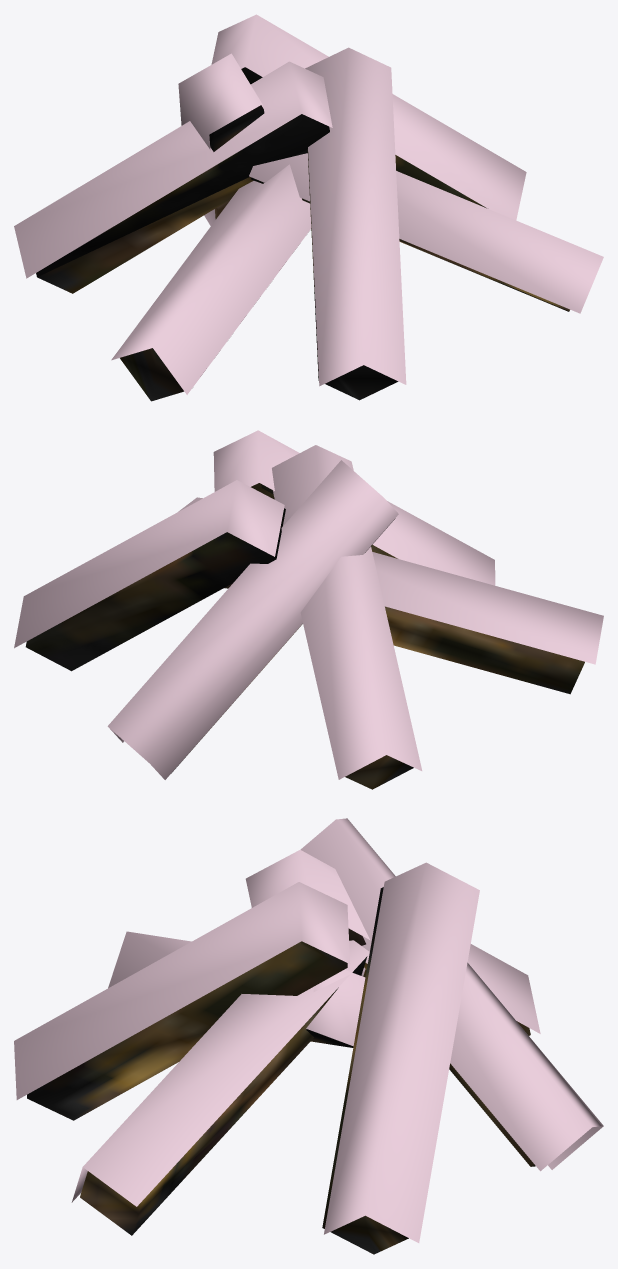
3 views of the same model, one above another, from view 1: azimuth 30°, elevation 25°; view 2: azimuth 150°, elevation 25°; view 3: azimuth 270°, elevation 25° (orthographic). The views are drawn at different scales.
Parts seen in each view (by area): view 1: Bonfire01; view 2: Bonfire01; view 3: Bonfire01.
Part boxes in pixels (left/top/right/bottom): Bonfire01: left=14, top=14, right=603, bottom=401; Bonfire01: left=14, top=430, right=603, bottom=789; Bonfire01: left=14, top=818, right=603, bottom=1254.
Bounding box in the file's own units: 120 × 62.9 × 110.
